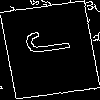J: (25, 25, 81, 58)
